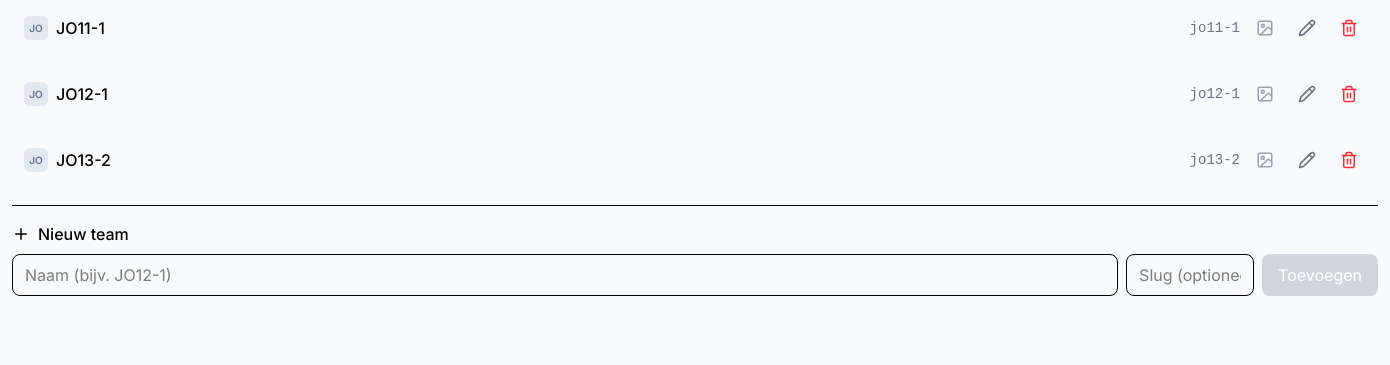
Scenario: TeamsTab › Create Team (CRUD) › shows error message on creation failure
This screenshot has width=1390, height=365.
Type "JO14-1" into the field with placeholder "Naam (bijv. JO12-1)" at coordinates (565, 275), box top-left (12, 254), bottom-right (1118, 296)
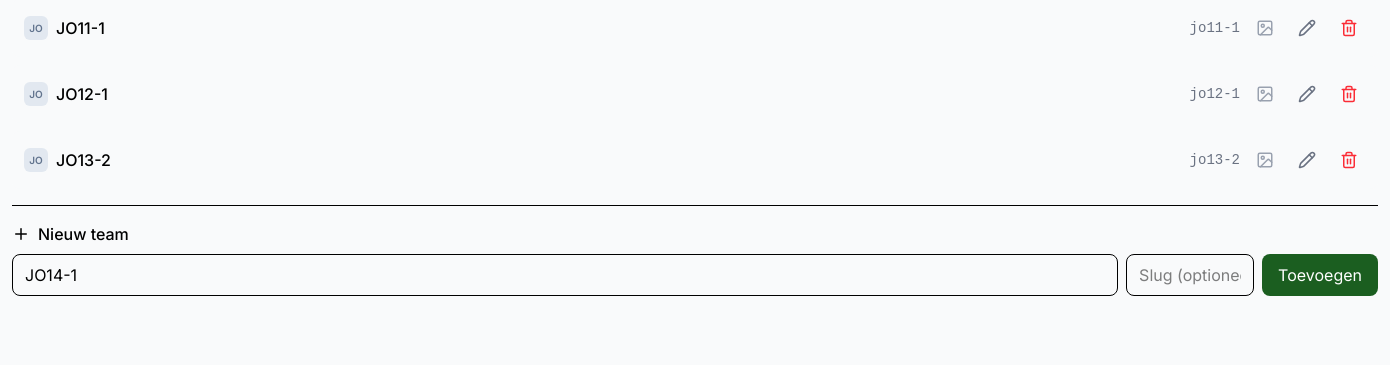
Click the button "Toevoegen" at coordinates (1320, 275), box top-left (1262, 254), bottom-right (1378, 296)
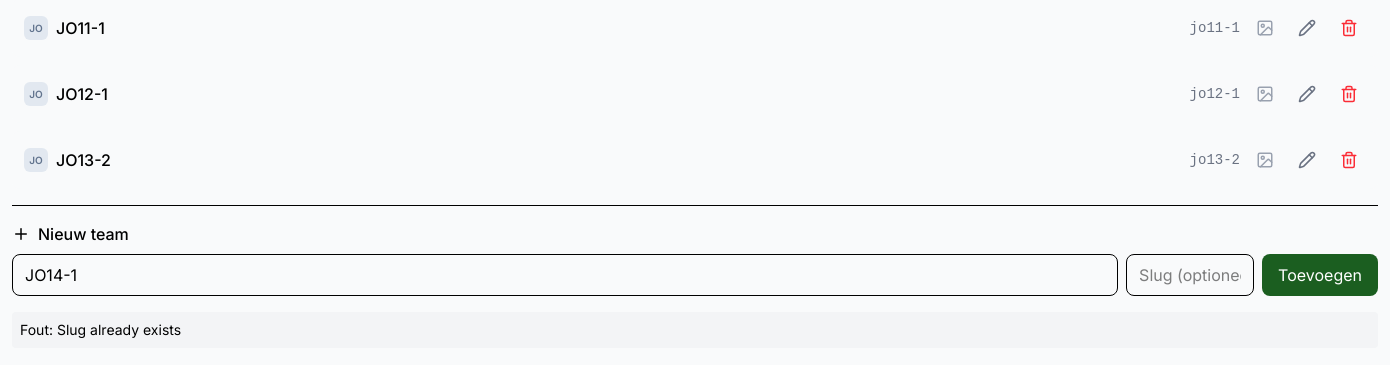
Check: the text "Fout: Slug already exists" is shown, box top-left (12, 312), bottom-right (1378, 348)
